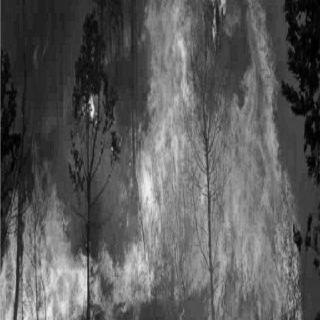Fire: (3, 2, 304, 316)
